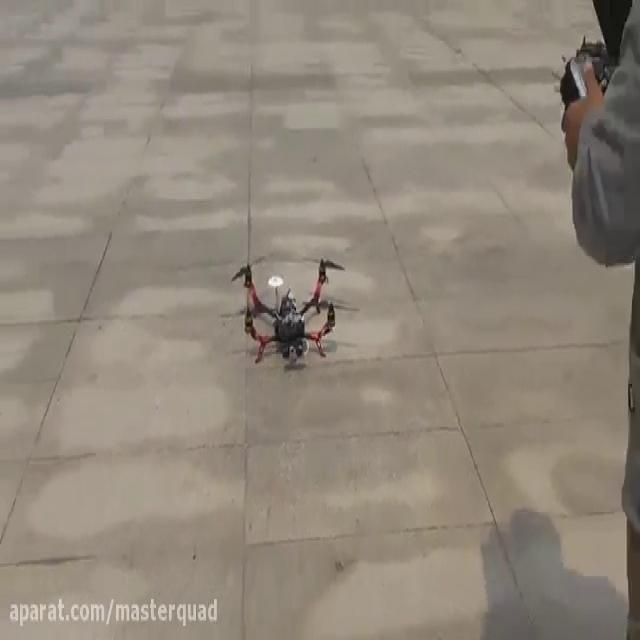drone: (221, 252, 360, 364)
